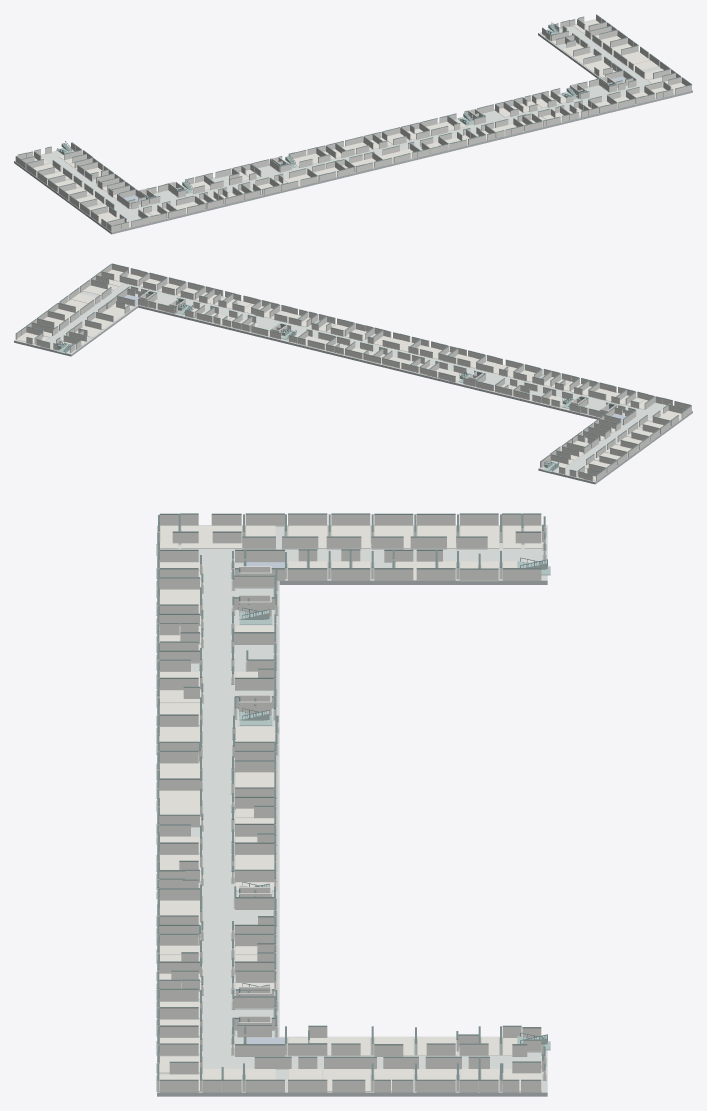
3 views of the same model, one above another, from view 1: azimuth 30°, elevation 25°; view 2: azimuth 150°, elevation 25°; view 3: azimuth 270°, elevation 25° (orthographic). The views are drawn at different scales.
Parts seen in each view (by area): view 1: wall, room, floor, cap, slab, shadow, stair; view 2: wall, room, floor, cap, slab, shadow, stair; view 3: wall, floor, room, cap, shadow, slab, stair.
Boxes of the visible parts, box(x1,y1,x2,y2) form: wall: box(15, 15, 691, 231); room: box(33, 20, 685, 231); floor: box(14, 19, 692, 232); cap: box(16, 14, 691, 225); slab: box(14, 33, 692, 234); shadow: box(15, 22, 692, 231); stair: box(56, 24, 577, 193); wall: box(15, 264, 691, 480); room: box(16, 269, 681, 481); floor: box(14, 273, 692, 482); cap: box(16, 263, 691, 475); slab: box(14, 305, 692, 484); shadow: box(26, 276, 691, 481); stair: box(56, 304, 574, 472); wall: box(157, 514, 545, 1091); floor: box(157, 525, 547, 1092); room: box(159, 525, 542, 1091); cap: box(157, 513, 545, 1080); shadow: box(156, 525, 546, 1092); slab: box(157, 581, 547, 1096); stair: box(239, 560, 550, 1050).
Size of the model in its own units: 1870 by 30.49 by 548.
